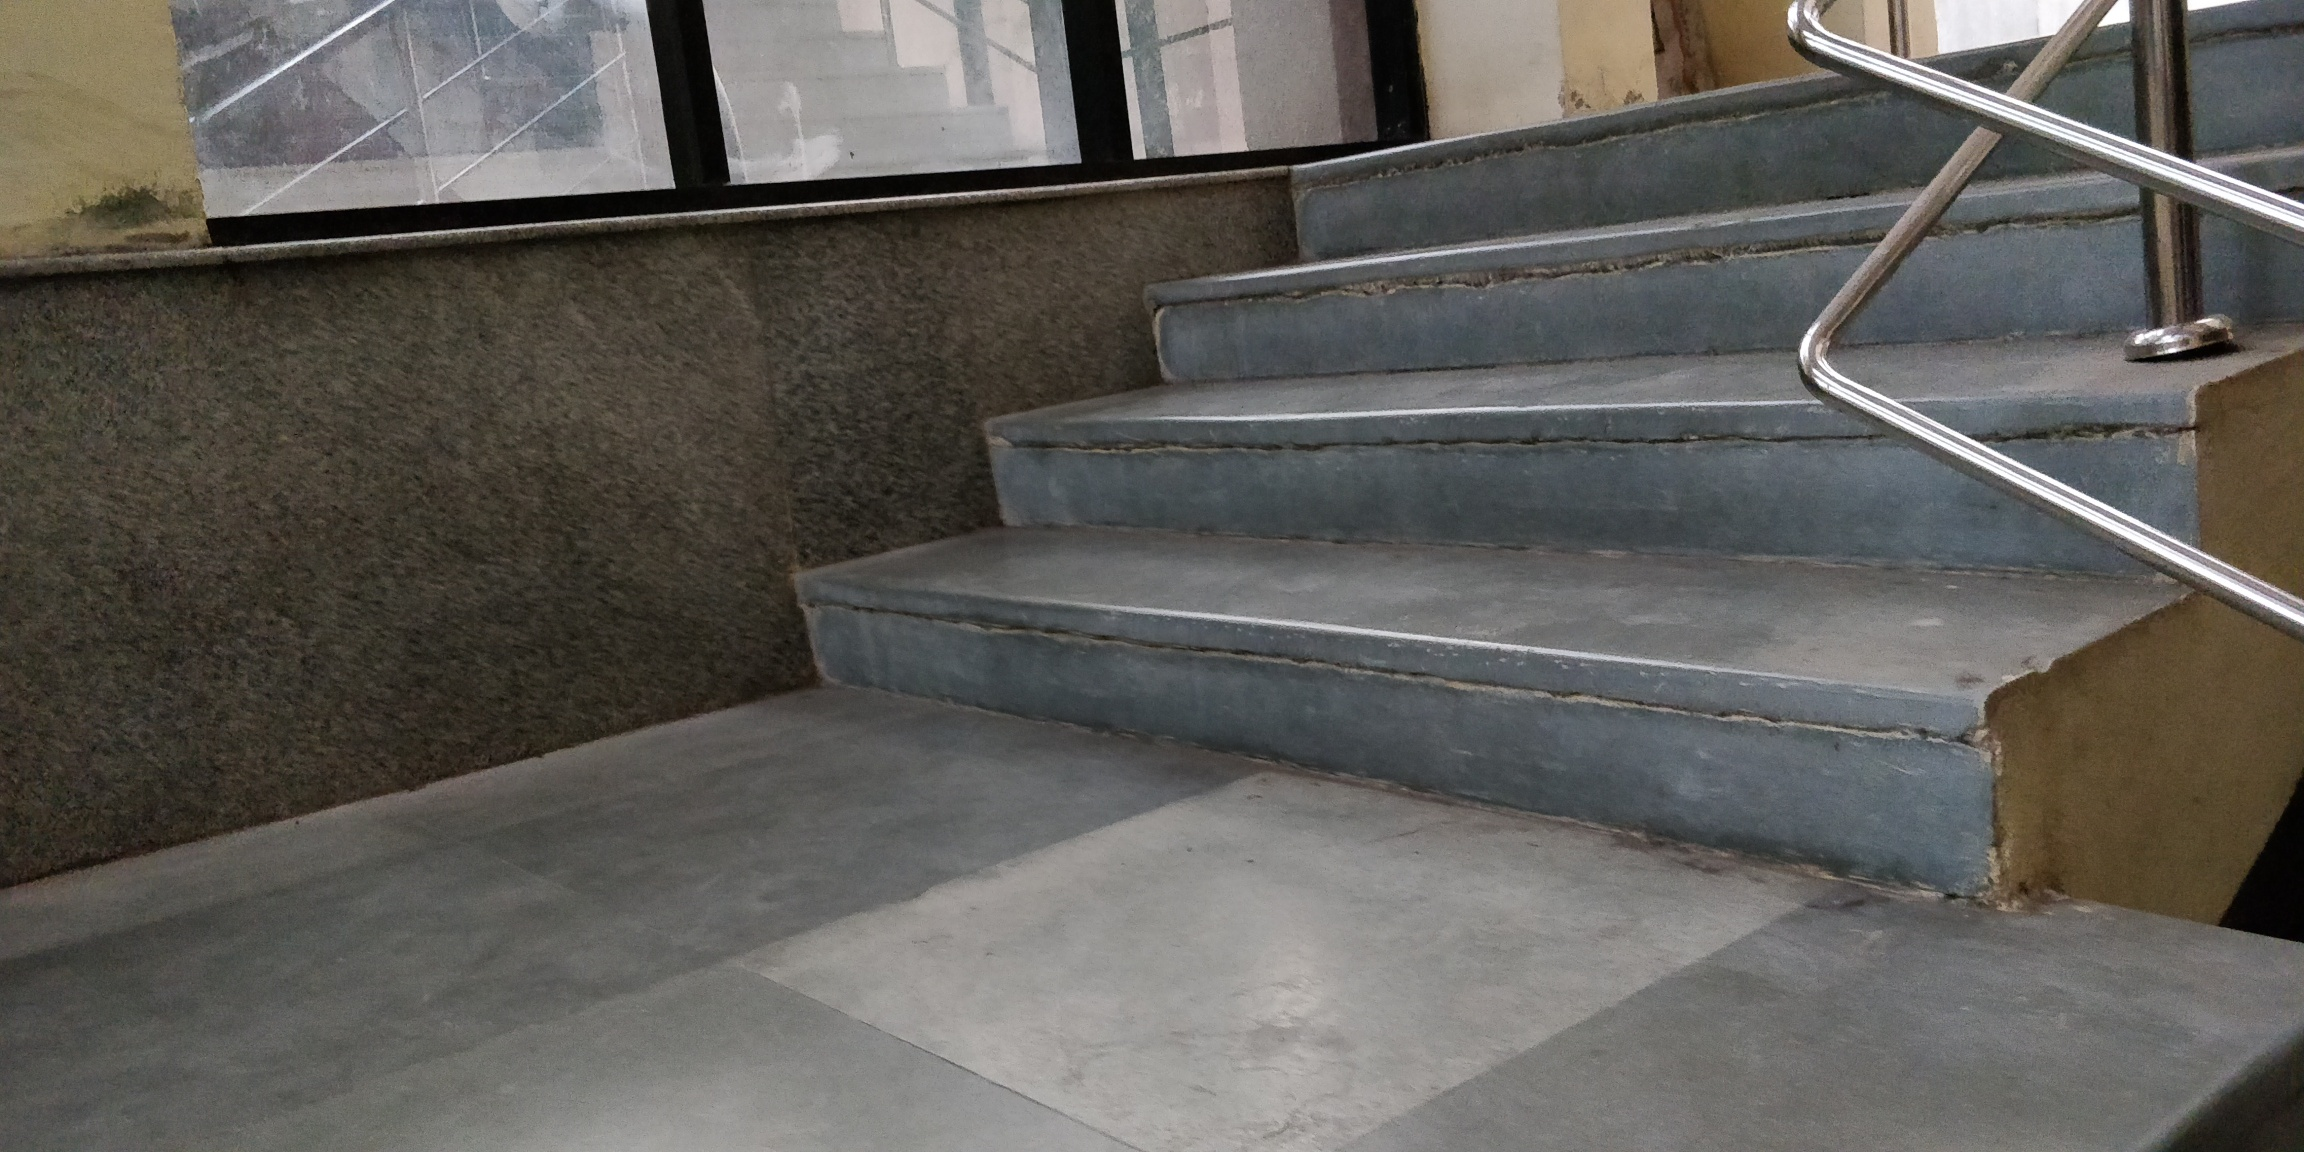stairs_up: (782, 29, 2154, 840)
